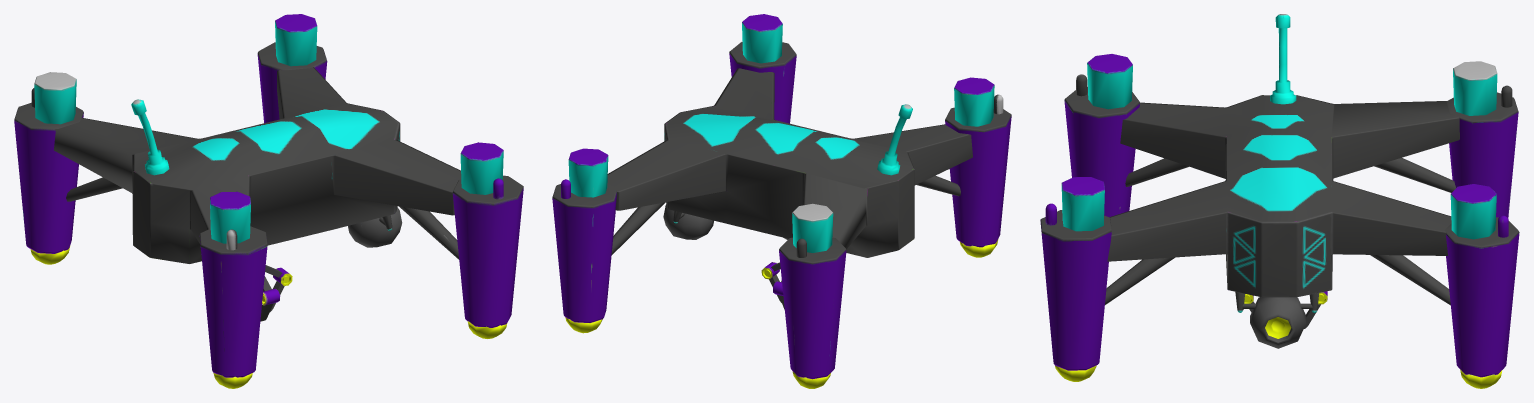
File: SM_Dron_1_SM_Dron_1.fbx
3 renders of one model, left to right at view 1: azimuth 30°, elevation 25°; view 2: azimuth 150°, elevation 25°; view 3: azimuth 270°, elevation 25°, orthographic. The views are drawn at different scales.
Parts seen in each view (by area): view 1: SM_Dron_1_SM_Dron_1; view 2: SM_Dron_1_SM_Dron_1; view 3: SM_Dron_1_SM_Dron_1.
Part boxes in pixels (bbox=[...]): SM_Dron_1_SM_Dron_1: bbox=[14, 14, 523, 388]; SM_Dron_1_SM_Dron_1: bbox=[552, 14, 1011, 388]; SM_Dron_1_SM_Dron_1: bbox=[1040, 14, 1519, 388].
Bounding box in the file's own units: 51.48 × 66.47 × 39.37.
1 material, 1 textured.
